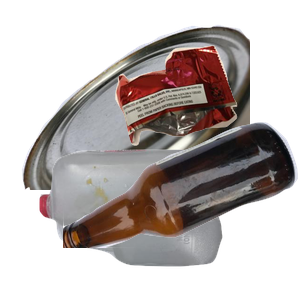glass: (63, 120, 300, 300)
metal: (19, 22, 259, 202)
plastic: (37, 147, 254, 300)
trash: (113, 43, 300, 181)
